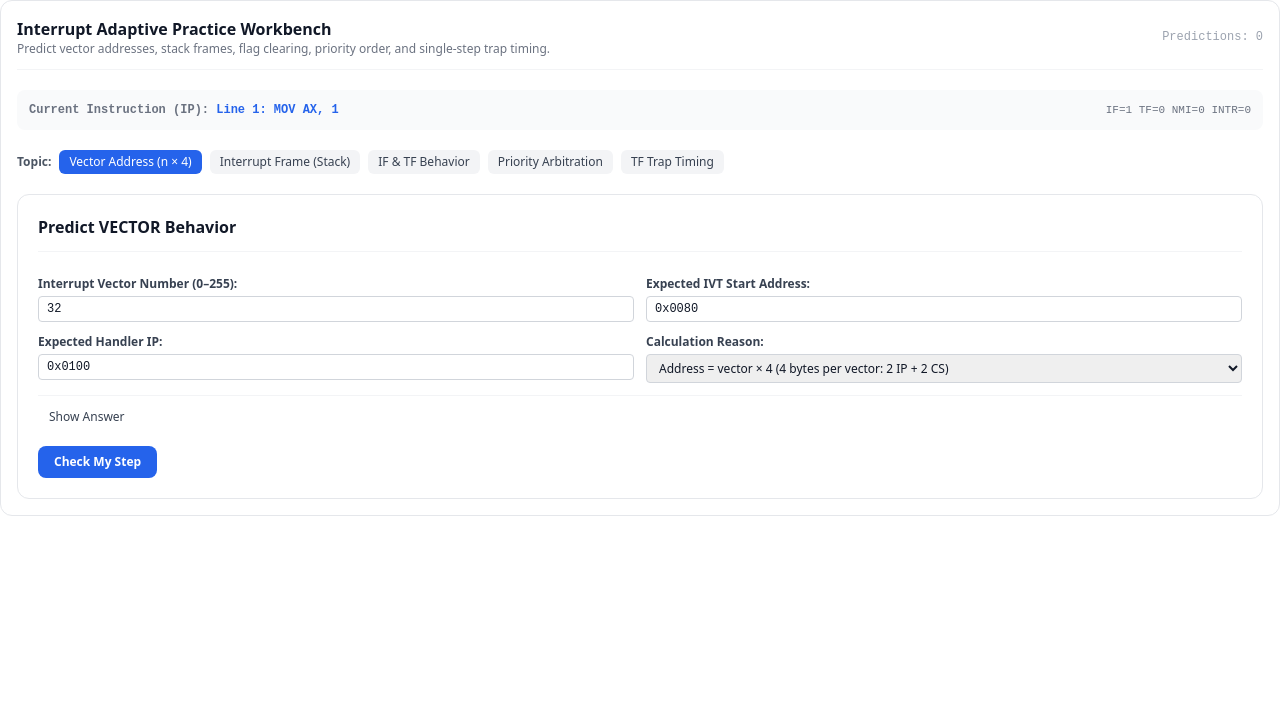
Test: InterruptPractice › renders prediction topics and switches between them
This screenshot has width=1280, height=720.
Expected: the heading "Interrupt Adaptive Practice Workbench" is shown, [17,18,332,40]
What coordinates should you click on to do the following:
click the button "Interrupt Frame (Stack)"
I would click on:
 (285, 162)
Its box is [210,150,360,174].
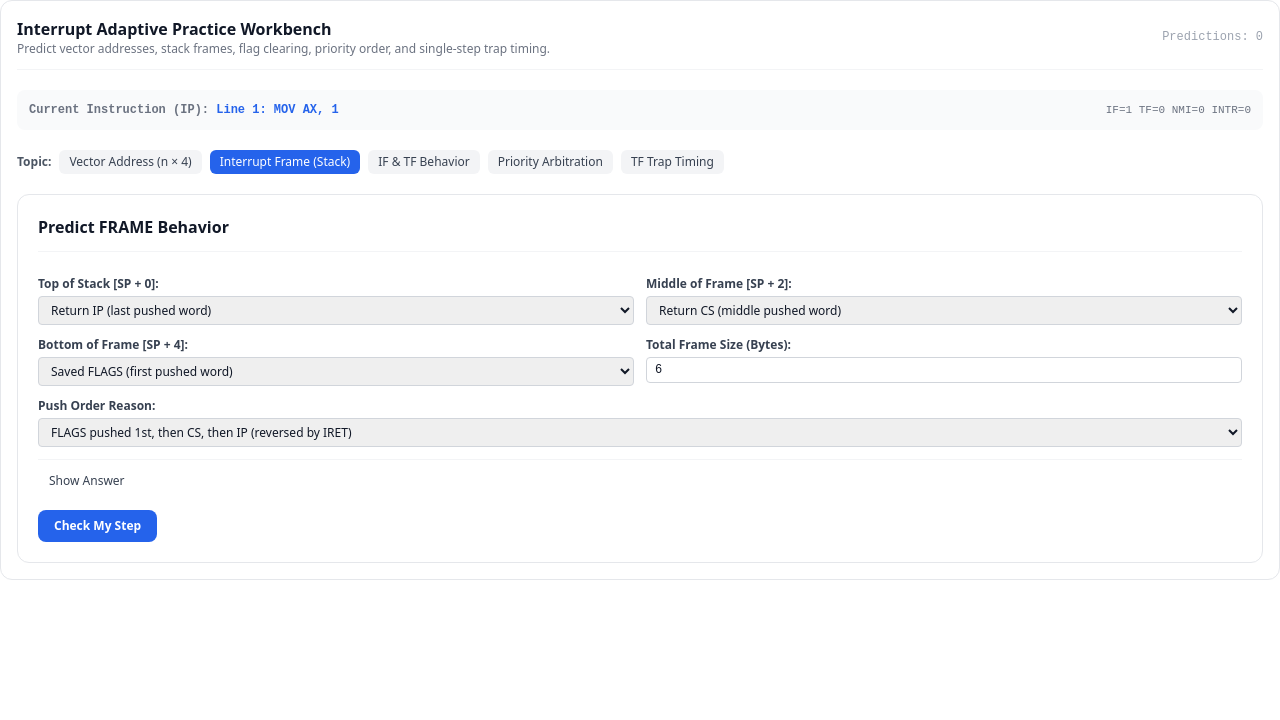
Now the text "Top of Stack [SP + 0]:" is shown, box [38,275,159,292]
What coordinates should you click on to do the following:
click the button "IF & TF Behavior"
I would click on:
 (424, 162)
Its box is [368,150,480,174].
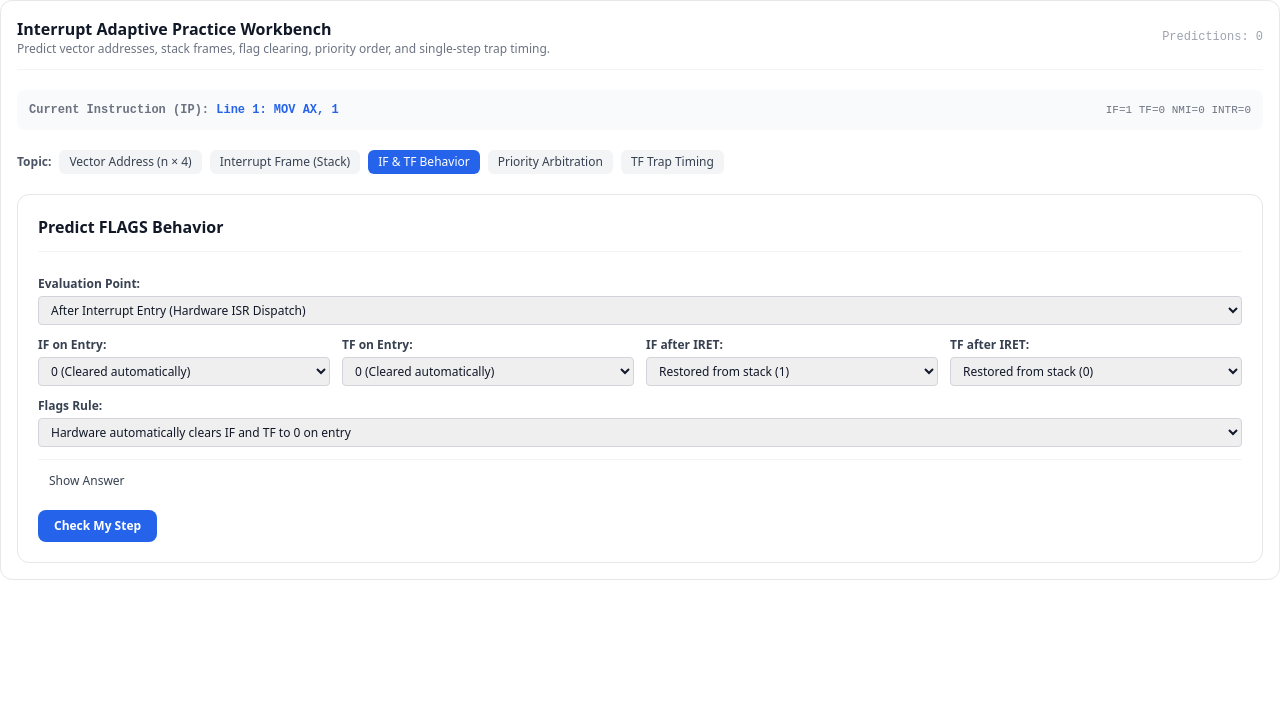
Now the text "IF on Entry:" is shown, box [38,336,106,353]
What coordinates should you click on to do the following:
click the button "Priority Arbitration"
I would click on:
 (550, 162)
Its box is [488,150,613,174].
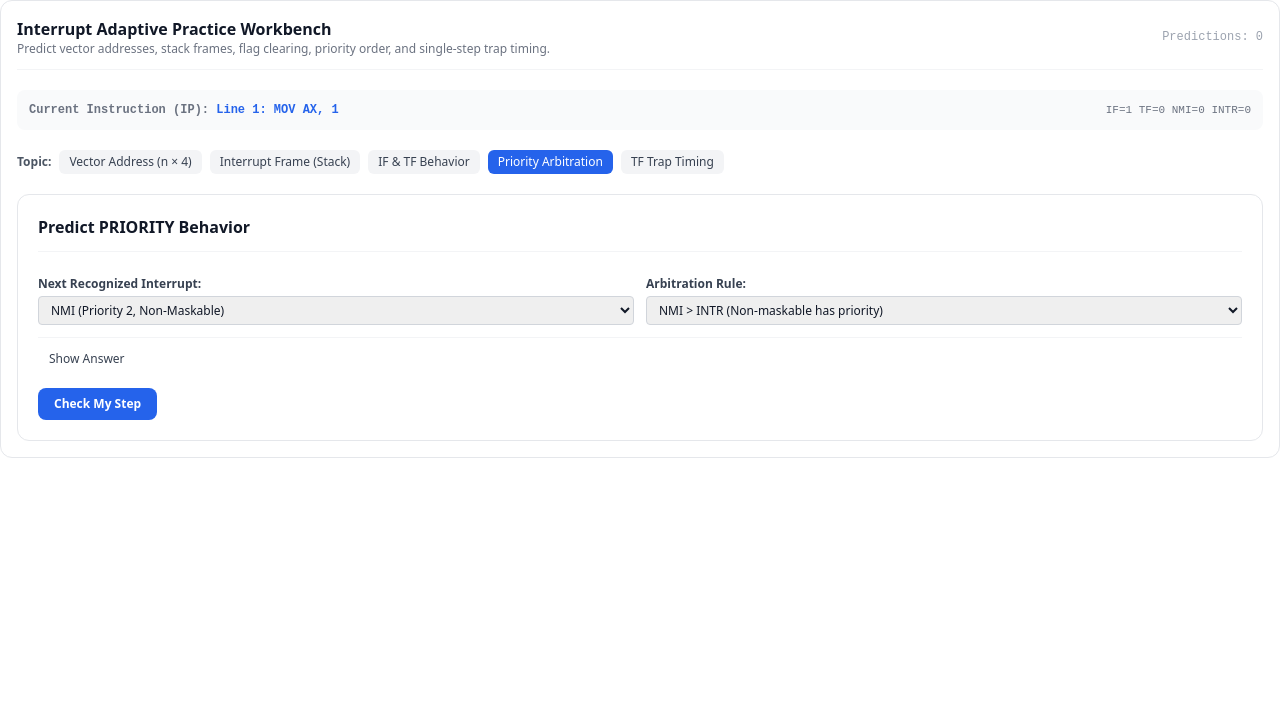
Now the text "Next Recognized Interrupt:" is shown, box [38,275,201,292]
What coordinates should you click on to do the following:
click the button "TF Trap Timing"
I would click on:
 (672, 162)
Its box is [621,150,724,174].
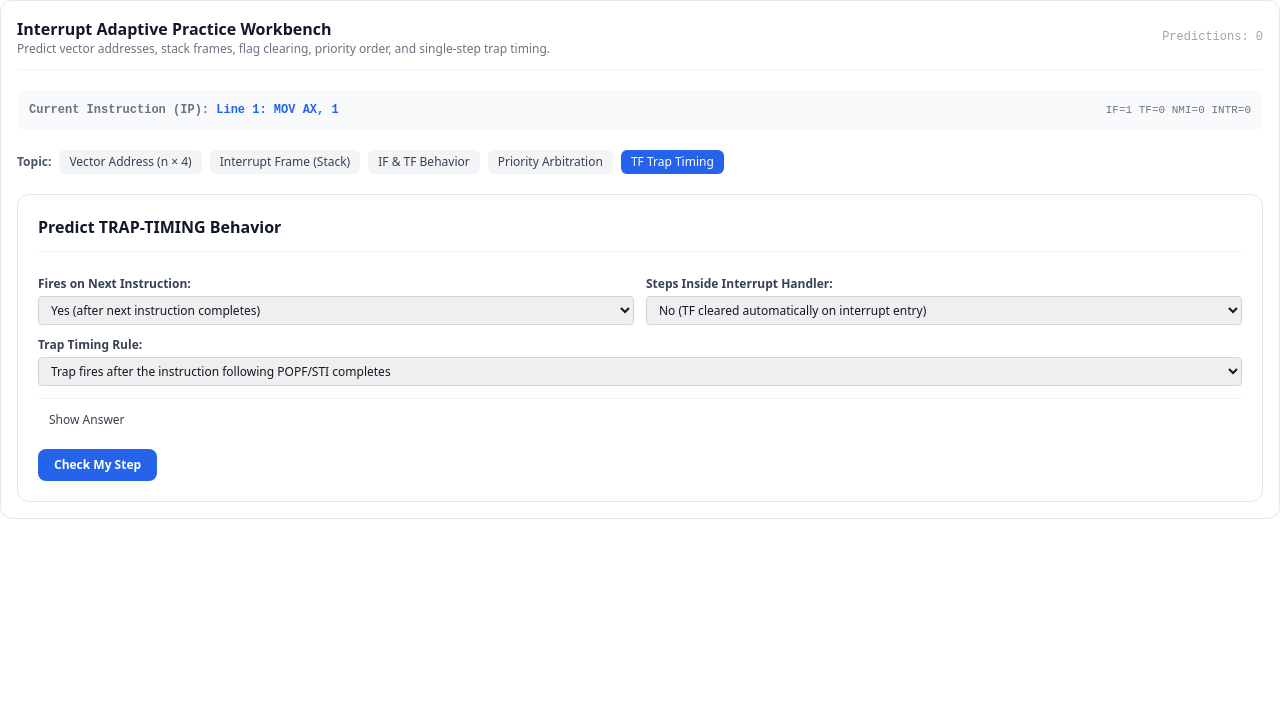
Now the text "Fires on Next Instruction:" is shown, box [38,275,191,292]
